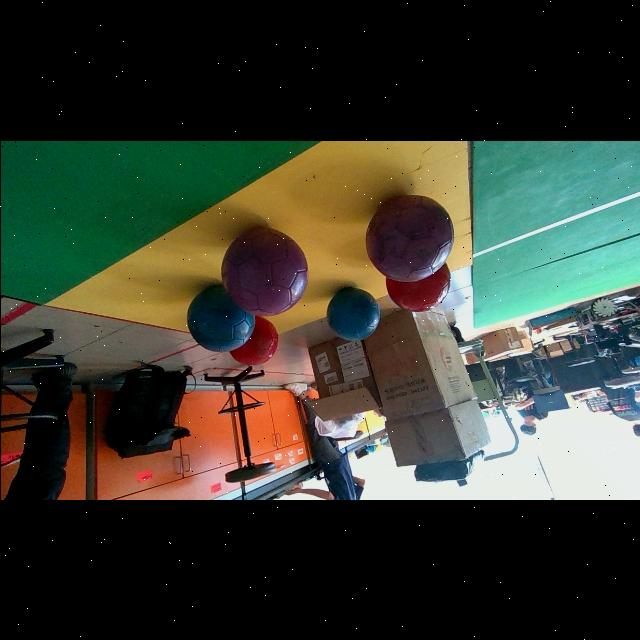B: (186, 285, 255, 351), (326, 287, 379, 341)
P: (221, 227, 307, 316), (365, 195, 453, 281)
R: (384, 264, 449, 311), (229, 316, 277, 366)
